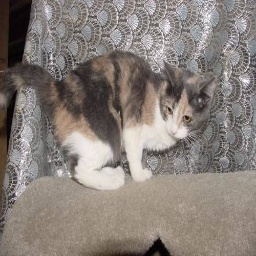cat: (7, 48, 210, 189)
